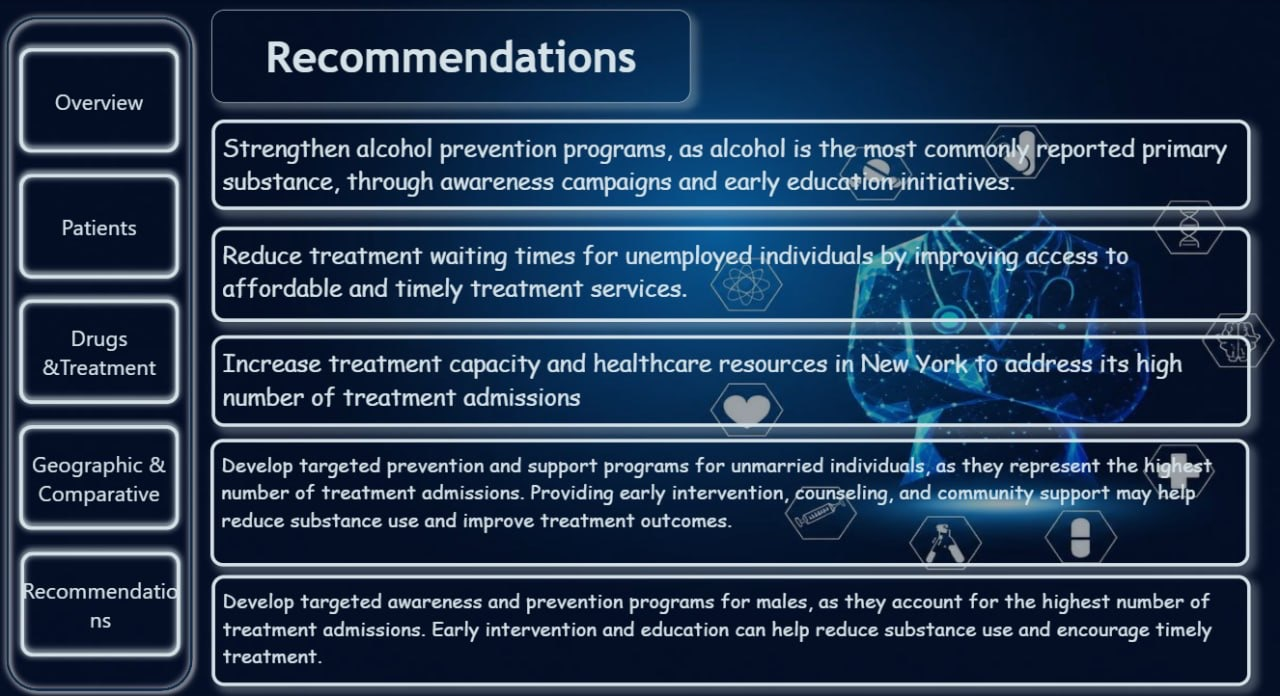

This screenshot's page, from the dashboard's own definition file:
{"tool":"powerbi","page":{"name":"Recommendations","canvas":[1750,960],"ordinal":4},"visuals":[{"type":"textbox","box":[288.6,14.7,647.3,125.5],"z":0},{"type":"pageNavigator","box":[19.6,57.1,234.8,842.9],"z":1000},{"type":"shape","box":[1.6,14.7,270.7,931],"z":2000},{"type":"textbox","box":[288.6,163,1403.8,122.3],"z":3000},{"type":"textbox","box":[288.6,308.2,1403.8,128.8],"z":3001},{"type":"textbox","box":[288.6,454.9,1403.8,123.9],"z":3002},{"type":"textbox","box":[287,595.1,1403.8,172.8],"z":3003},{"type":"textbox","box":[288.6,779.4,1403.8,150],"z":3004}]}

Visuals, with their boxes in screenshot pixels (x1, y1, x2, y2), scaled from the page's 1750x960 canvas onto the 1280x696 screenshot:
textbox: bbox=[211, 11, 685, 102]
pageNavigator: bbox=[14, 41, 186, 652]
shape: bbox=[1, 11, 199, 686]
textbox: bbox=[211, 118, 1238, 207]
textbox: bbox=[211, 223, 1238, 317]
textbox: bbox=[211, 330, 1238, 420]
textbox: bbox=[210, 431, 1237, 557]
textbox: bbox=[211, 565, 1238, 674]
